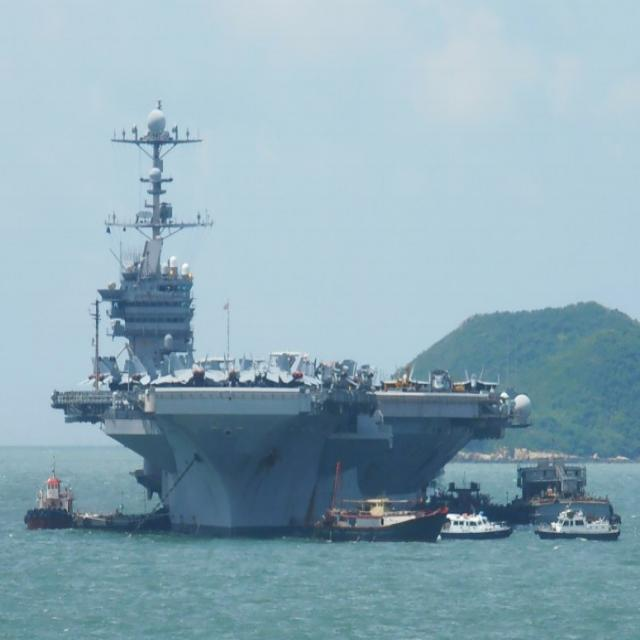Portanaves: (53, 98, 544, 534)
